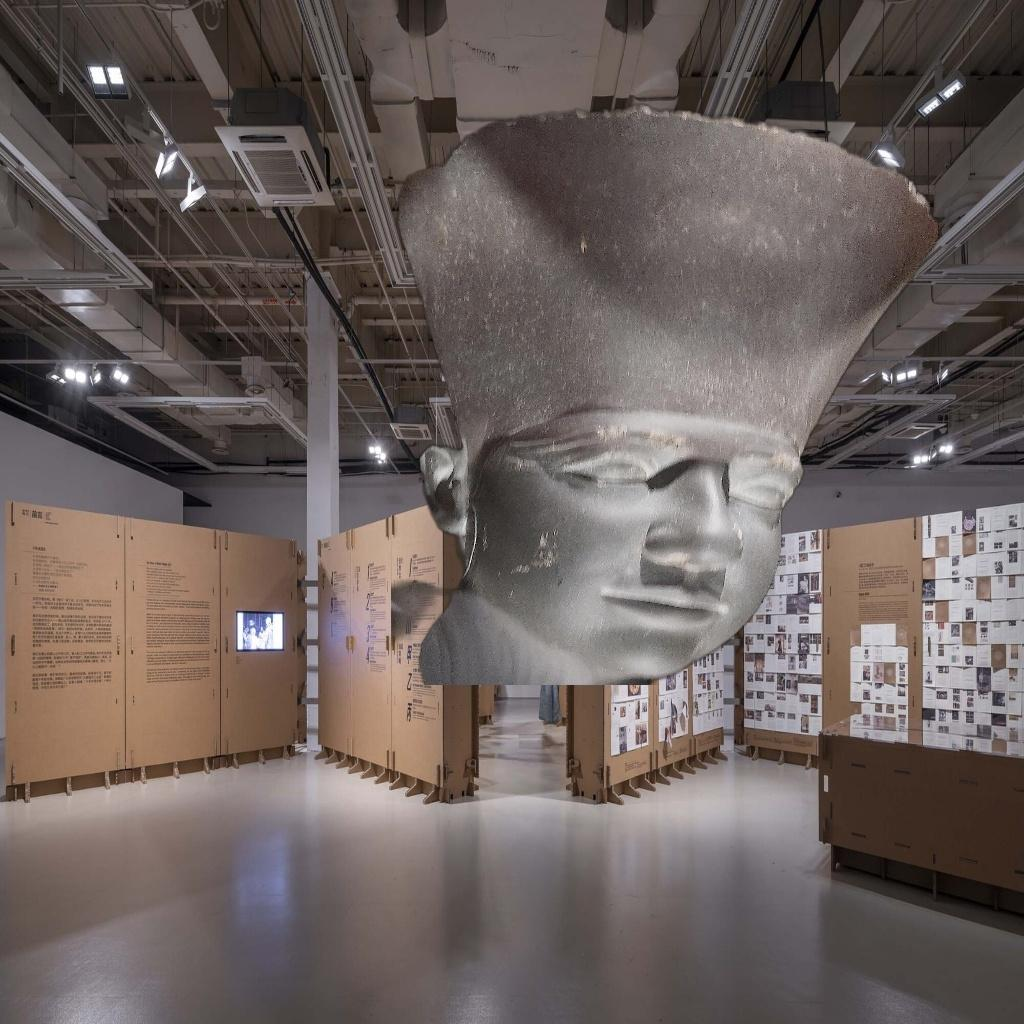Head of Userkaf: (392, 102, 940, 685)
